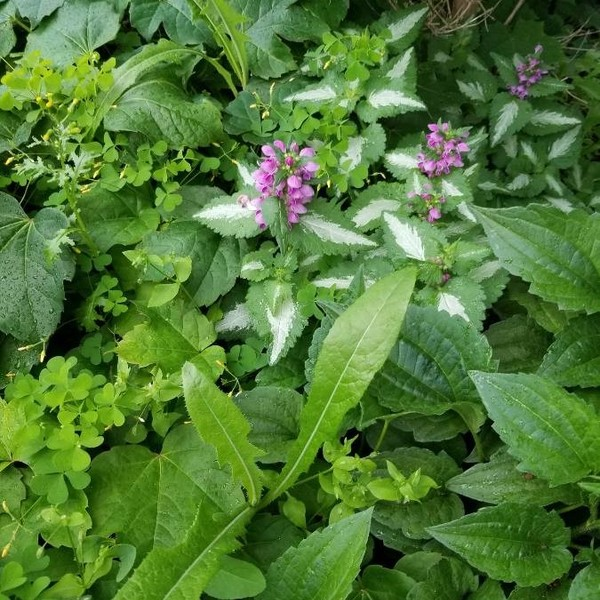obstacle: (146, 334, 550, 543), (209, 68, 473, 295), (3, 35, 191, 333), (12, 347, 159, 553)
